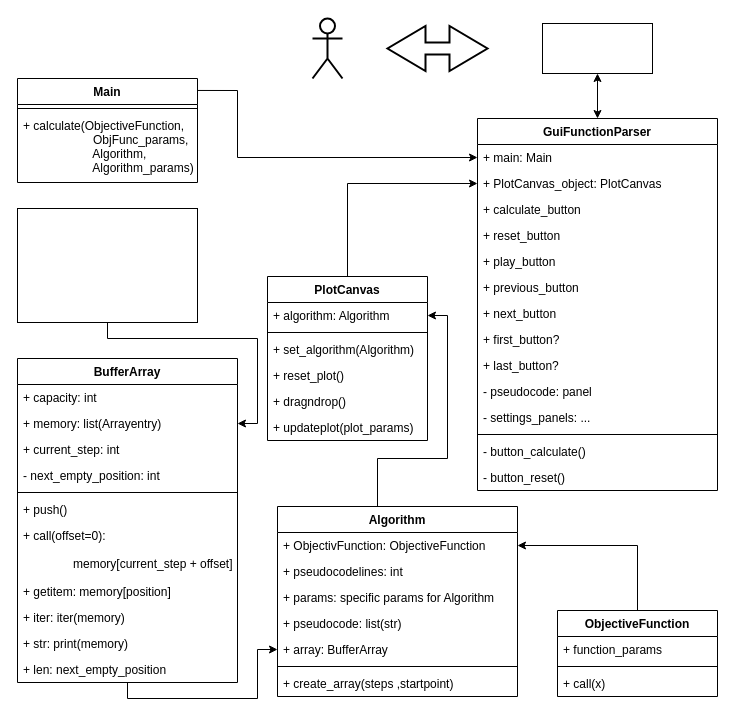
Image size: 735x724. Some labels were removed from this diagram. The centre of each missing label's shape, as x and y in pixels:
Arrayentry pseudocodeline points vectors lines: pixel 107 265
GUI: pixel 597 48
Timur: pixel 327 48
